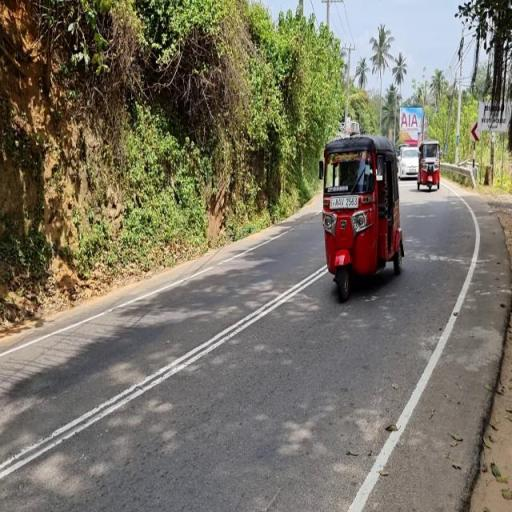double_white_line: (0, 259, 332, 482)
